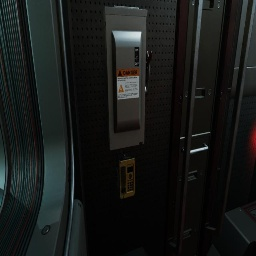EmergencyPhone ,: (116, 151, 135, 200)
SafetySwitchPanel ,: (103, 5, 152, 150)
